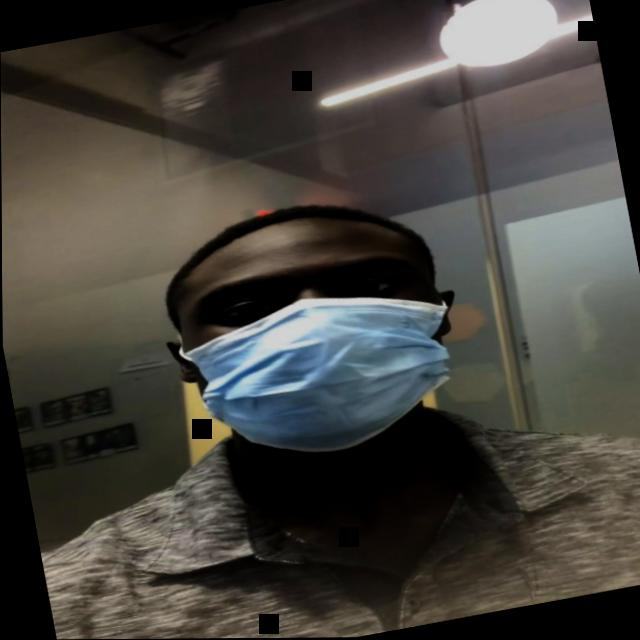Mask: (154, 192, 469, 473)
